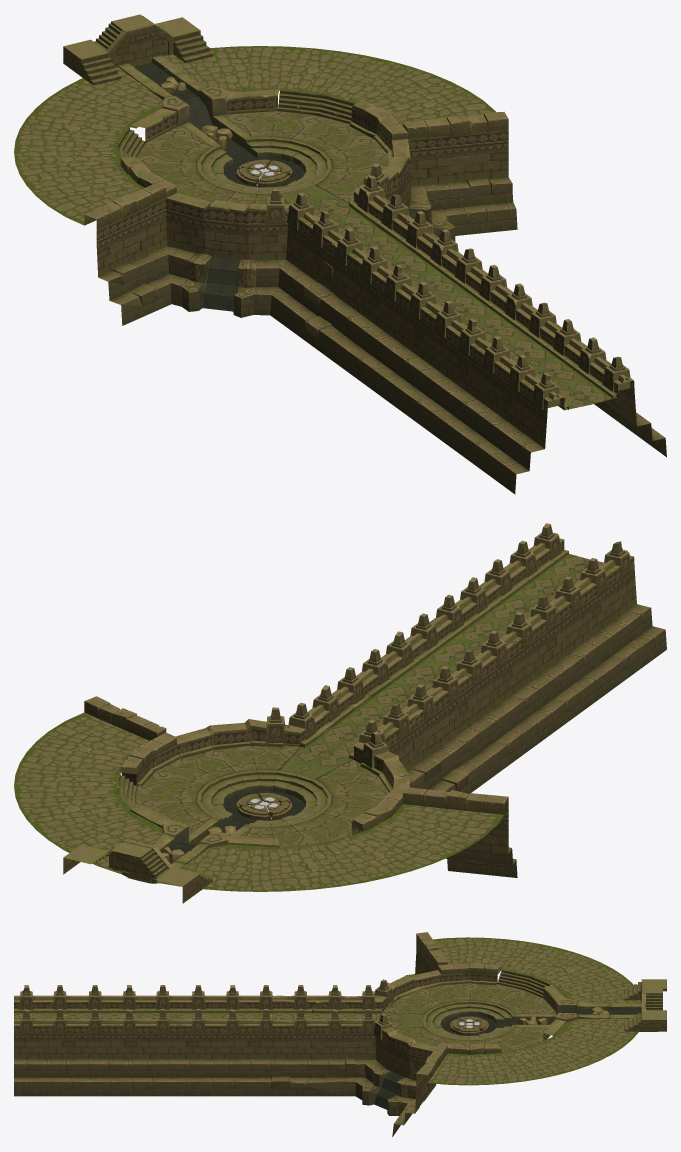
Rendered from city_plaza_01.fbx.
3 views of the same model, one above another, from view 1: azimuth 30°, elevation 25°; view 2: azimuth 150°, elevation 25°; view 3: azimuth 270°, elevation 25° (orthographic). The views are drawn at different scales.
Parts seen in each view (by area): view 1: obj15; view 2: obj15; view 3: obj15.
Boxes of the visible parts, x1,y1,x2,y2 form: obj15: (14,14,666,494); obj15: (14,523,666,903); obj15: (14,932,666,1136).
Size of the model in its own units: 59.4 by 15.48 by 111.
